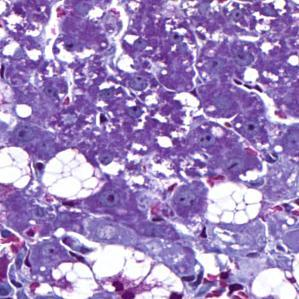ballooning: (44, 243, 189, 299), (41, 146, 107, 201), (202, 180, 264, 227), (4, 144, 35, 190)
